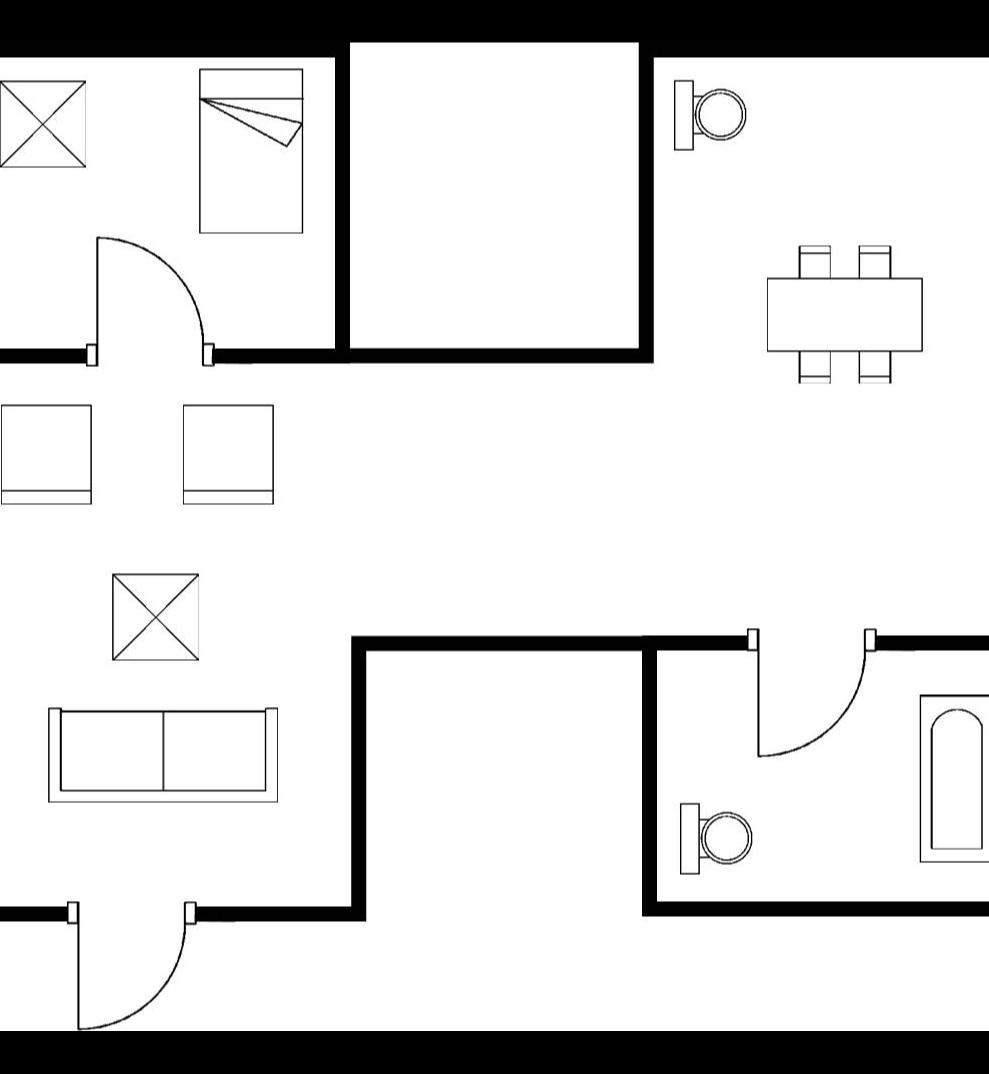bed: (190, 60, 311, 244)
dining_table: (760, 235, 931, 394)
sofa: (38, 699, 286, 808)
toilet: (666, 68, 752, 162), (674, 794, 760, 881)
tub: (909, 682, 989, 870)
